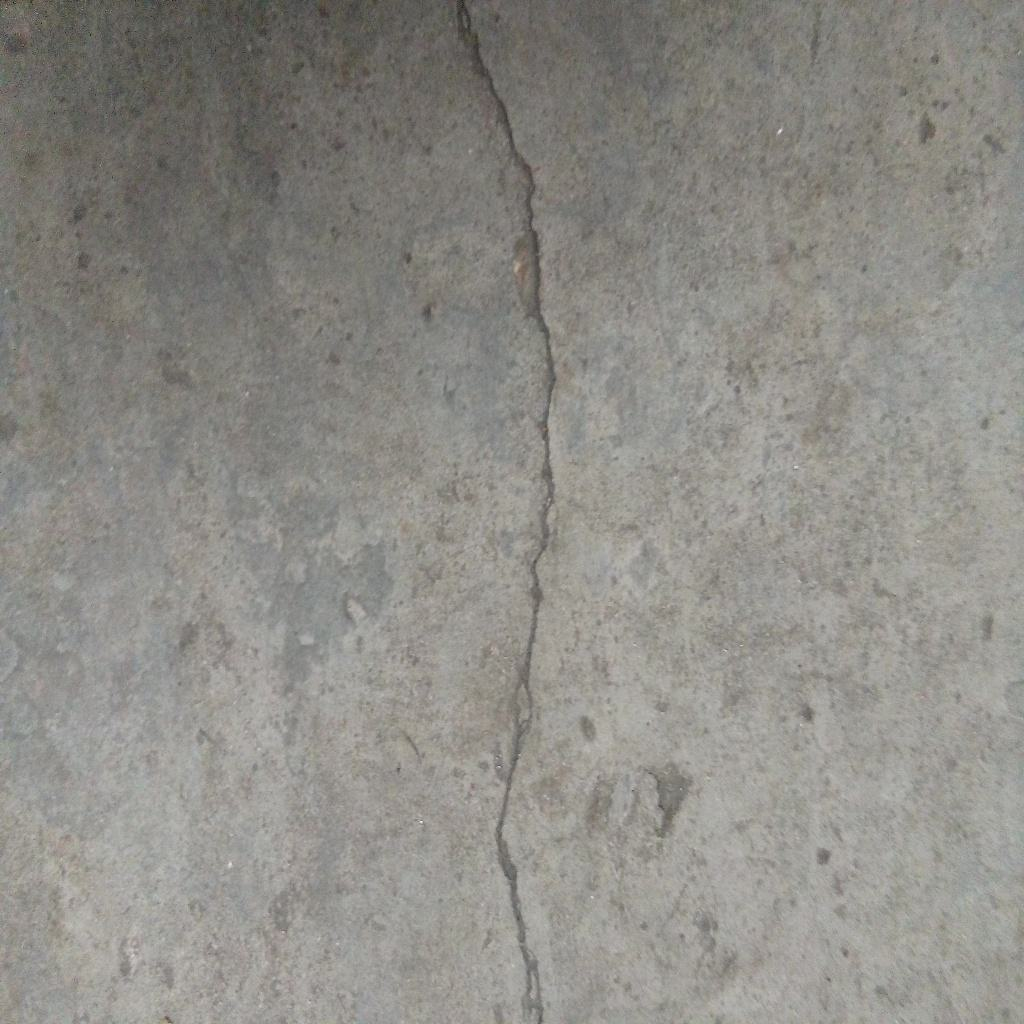Crack: (456, 1, 559, 1024)
